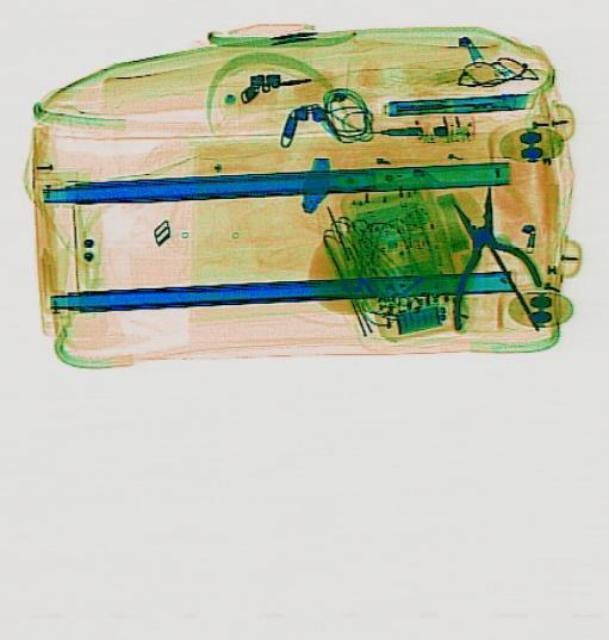Pliers: (411, 176, 547, 330)
